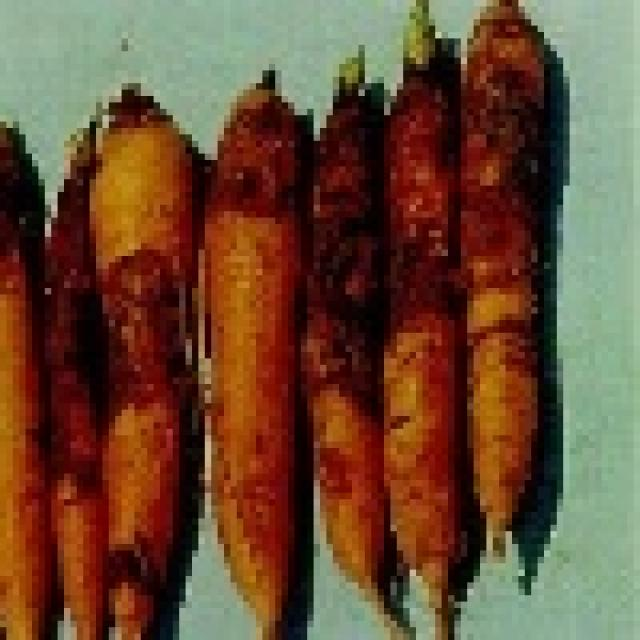Stale_Carrot: (70, 32, 212, 640), (205, 18, 313, 625), (388, 15, 481, 594), (313, 15, 399, 620), (465, 0, 551, 537)
